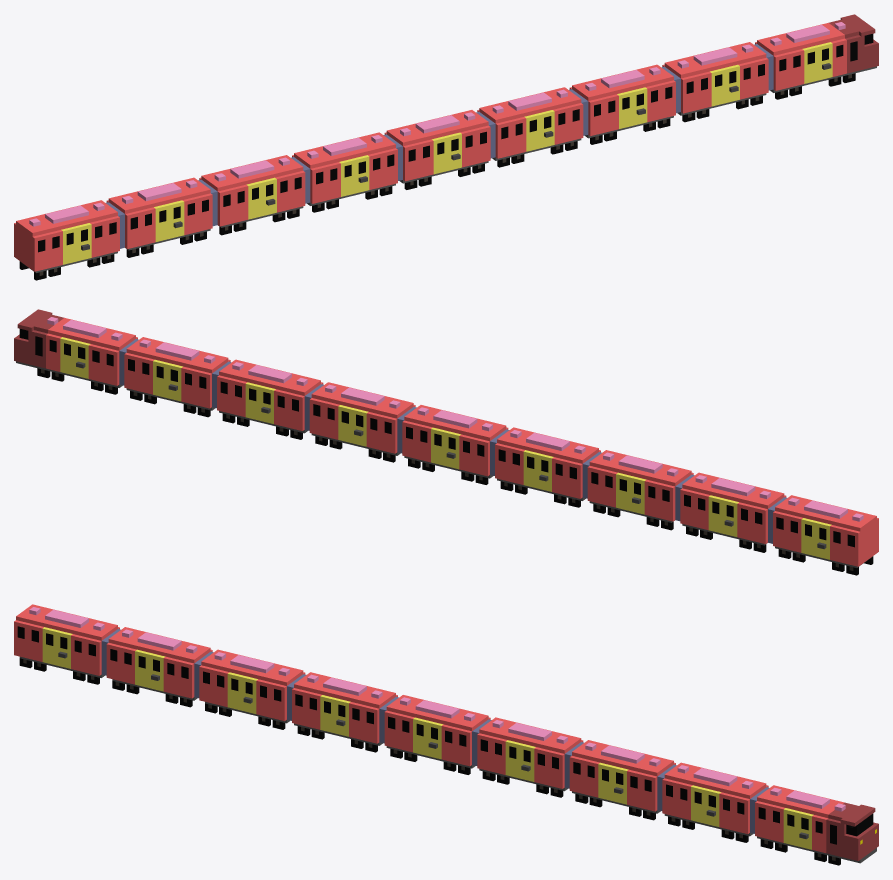
Rendered from trainPink.obj.
The picture shows the model from 3 angles, top to bottom: view 1: azimuth 30°, elevation 25°; view 2: azimuth 150°, elevation 25°; view 3: azimuth 330°, elevation 25°; orthographic projection.
Bounding box in the file's own units: 23.7 × 1.4 × 1.2.
Materials: 1 (1 with a texture image).
